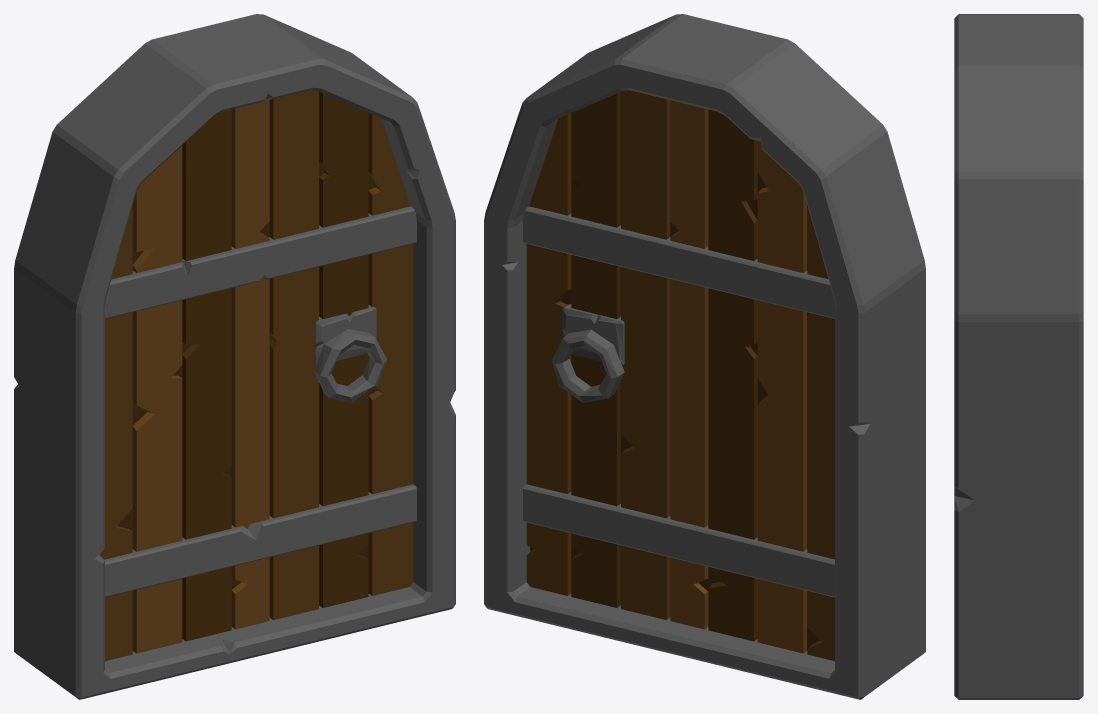
File: Door.glb
The picture shows the model from 3 angles, left to right: view 1: azimuth 30°, elevation 25°; view 2: azimuth 150°, elevation 25°; view 3: azimuth 270°, elevation 25°; orthographic projection. The views are drawn at different scales.
Visible parts, largest first — view 1: world; view 2: world; view 3: world.
Part boxes in pixels (left/top/right/bottom): world: left=14, top=14, right=455, bottom=699; world: left=484, top=14, right=925, bottom=699; world: left=954, top=14, right=1083, bottom=699.
Size of the model in its own units: 200 by 293 by 60.
